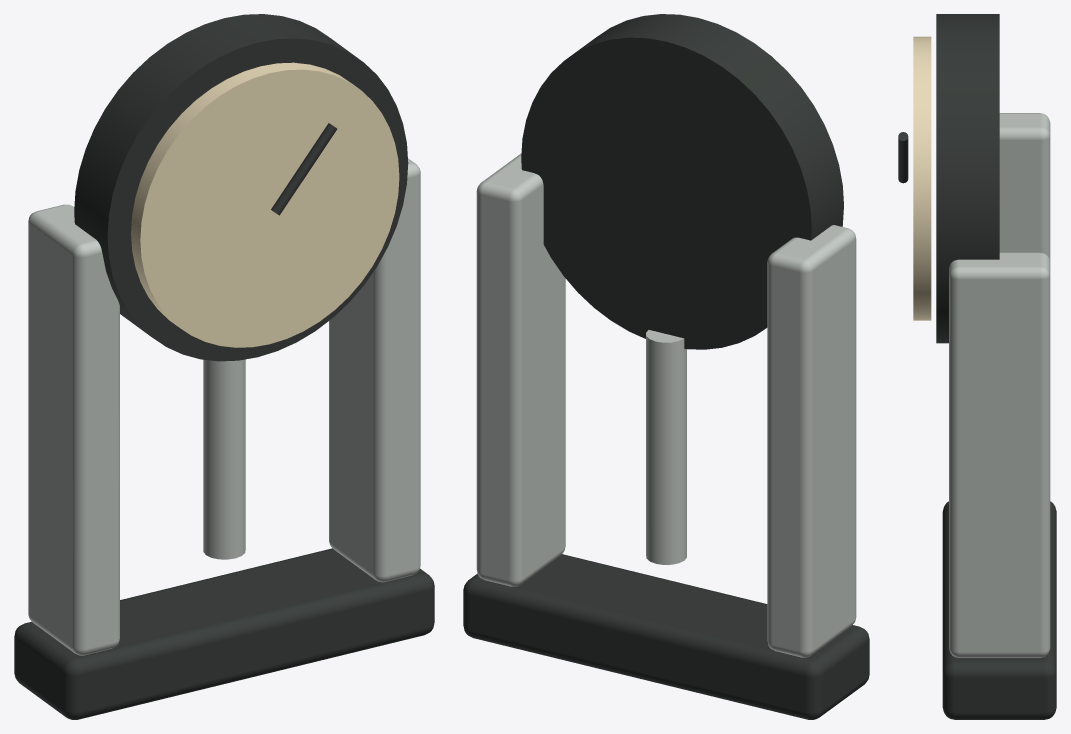
File: sawmill-and-timber-yard-blade-tension-gauge-fe24b664__31171.glb
3 views of the same model, side by side, from view 1: azimuth 30°, elevation 25°; view 2: azimuth 150°, elevation 25°; view 3: azimuth 270°, elevation 25° (orthographic). The views are drawn at different scales.
Visible parts, largest first — view 1: blade-tension-gauge; view 2: blade-tension-gauge; view 3: blade-tension-gauge.
Part boxes in pixels (x1,y1,x2,y2): blade-tension-gauge: [14, 14, 434, 719]; blade-tension-gauge: [463, 14, 869, 719]; blade-tension-gauge: [898, 14, 1056, 719].
Size of the model in its own units: 0.16 by 0.265 by 0.0625.
